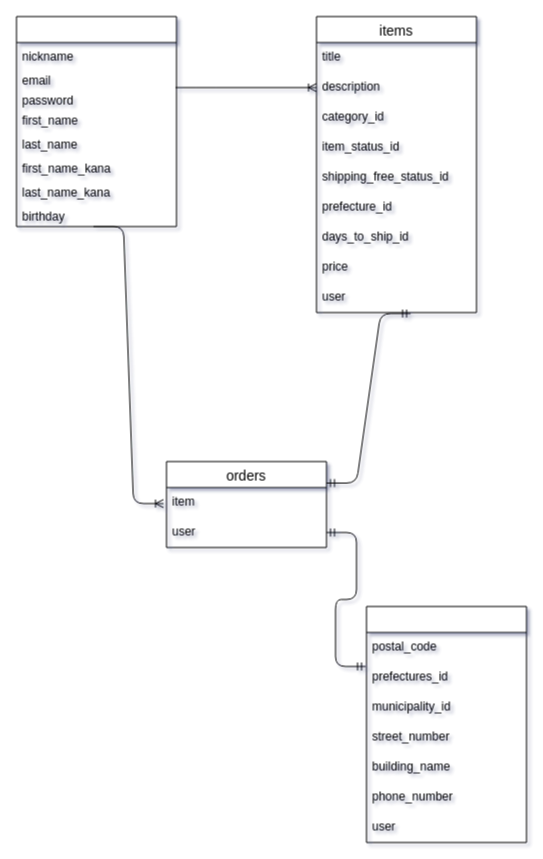
Some shapes in this 543 by 859 pixel diagram are drawn without their labels. Here are the shapes that lost their labels. From the top down, the box of each, then its label:
(16, 16, 176, 226): users
(366, 606, 526, 842): addresses
